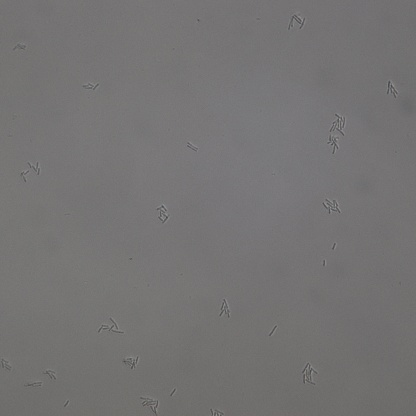R(colony): (19, 159, 40, 183), (300, 362, 318, 387), (329, 113, 349, 134), (97, 318, 124, 333), (139, 396, 158, 416), (322, 196, 344, 213), (218, 298, 232, 319), (156, 205, 169, 226), (325, 136, 341, 153), (289, 13, 306, 29), (121, 356, 140, 369), (386, 80, 397, 98), (43, 369, 57, 381), (1, 358, 13, 372), (82, 82, 100, 91), (186, 142, 198, 152)
